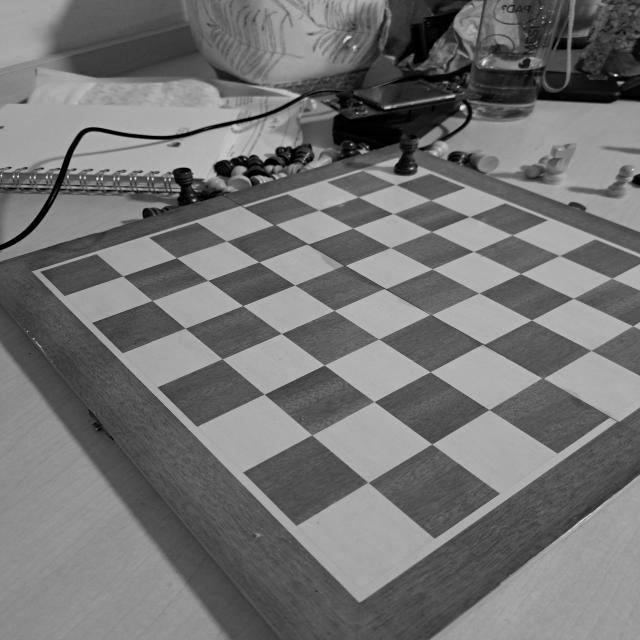chess-table-corners: (326, 568, 394, 612), (26, 263, 54, 281), (390, 153, 404, 163)
